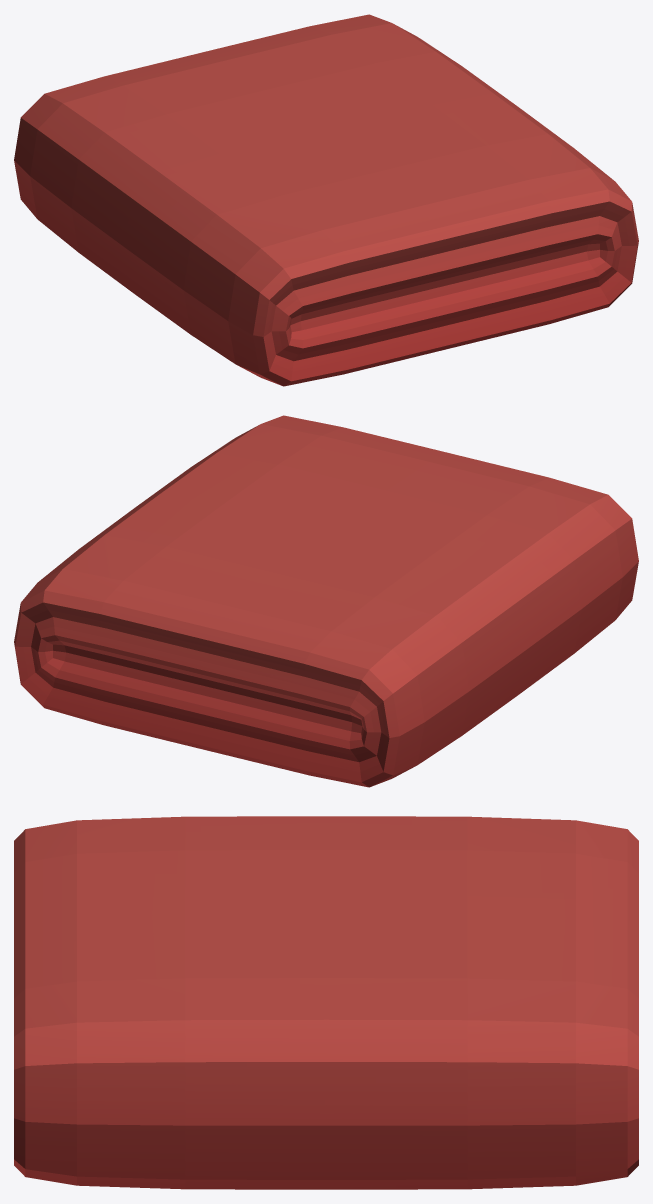
Rendered from Clothes3_C2.fbx.
The picture shows the model from 3 angles, top to bottom: view 1: azimuth 30°, elevation 25°; view 2: azimuth 150°, elevation 25°; view 3: azimuth 270°, elevation 25°; orthographic projection. The views are drawn at different scales.
Parts seen in each view (by area): view 1: Clothes3_C2; view 2: Clothes3_C2; view 3: Clothes3_C2.
Boxes of the visible parts, box(x1,y1,x2,y2) form: Clothes3_C2: box(14, 14, 638, 386); Clothes3_C2: box(14, 415, 638, 787); Clothes3_C2: box(14, 816, 638, 1189).
Bounding box in the file's own units: 22.53 × 7.63 × 24.28.
